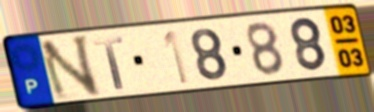1: (162, 29, 191, 84)
8: (245, 20, 287, 78), (289, 15, 330, 74), (189, 26, 230, 82)
N: (36, 32, 103, 103)
T: (91, 34, 127, 91)
